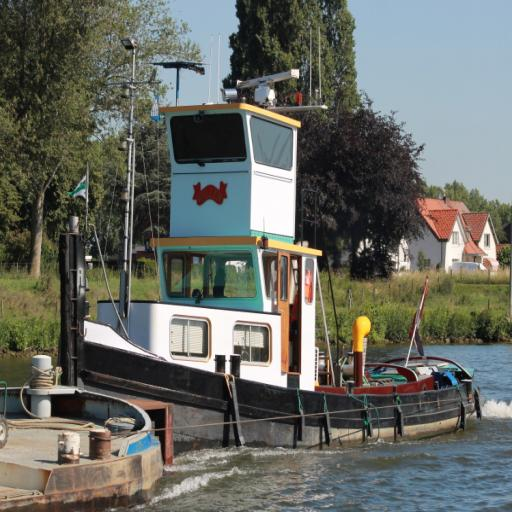tugboat: (38, 23, 485, 458)
